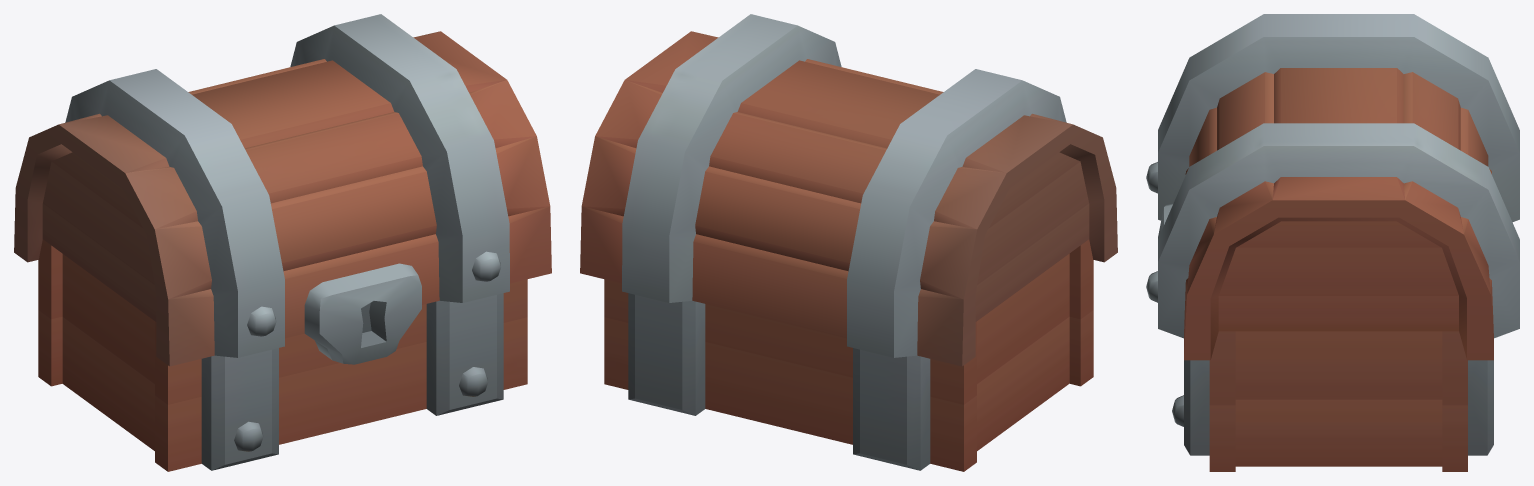
The model's file is kay-bau-madeira.gltf.
3 views of the same model, side by side, from view 1: azimuth 30°, elevation 25°; view 2: azimuth 150°, elevation 25°; view 3: azimuth 270°, elevation 25° (orthographic).
Parts seen in each view (by area): view 1: chest; view 2: chest; view 3: chest.
Boxes of the visible parts, bbox=[...] form: chest: bbox=[14, 14, 551, 471]; chest: bbox=[580, 14, 1117, 471]; chest: bbox=[1146, 14, 1519, 471].
Size of the model in its own units: 1.11 by 0.8451 by 0.9398.
1 material, 1 textured.
